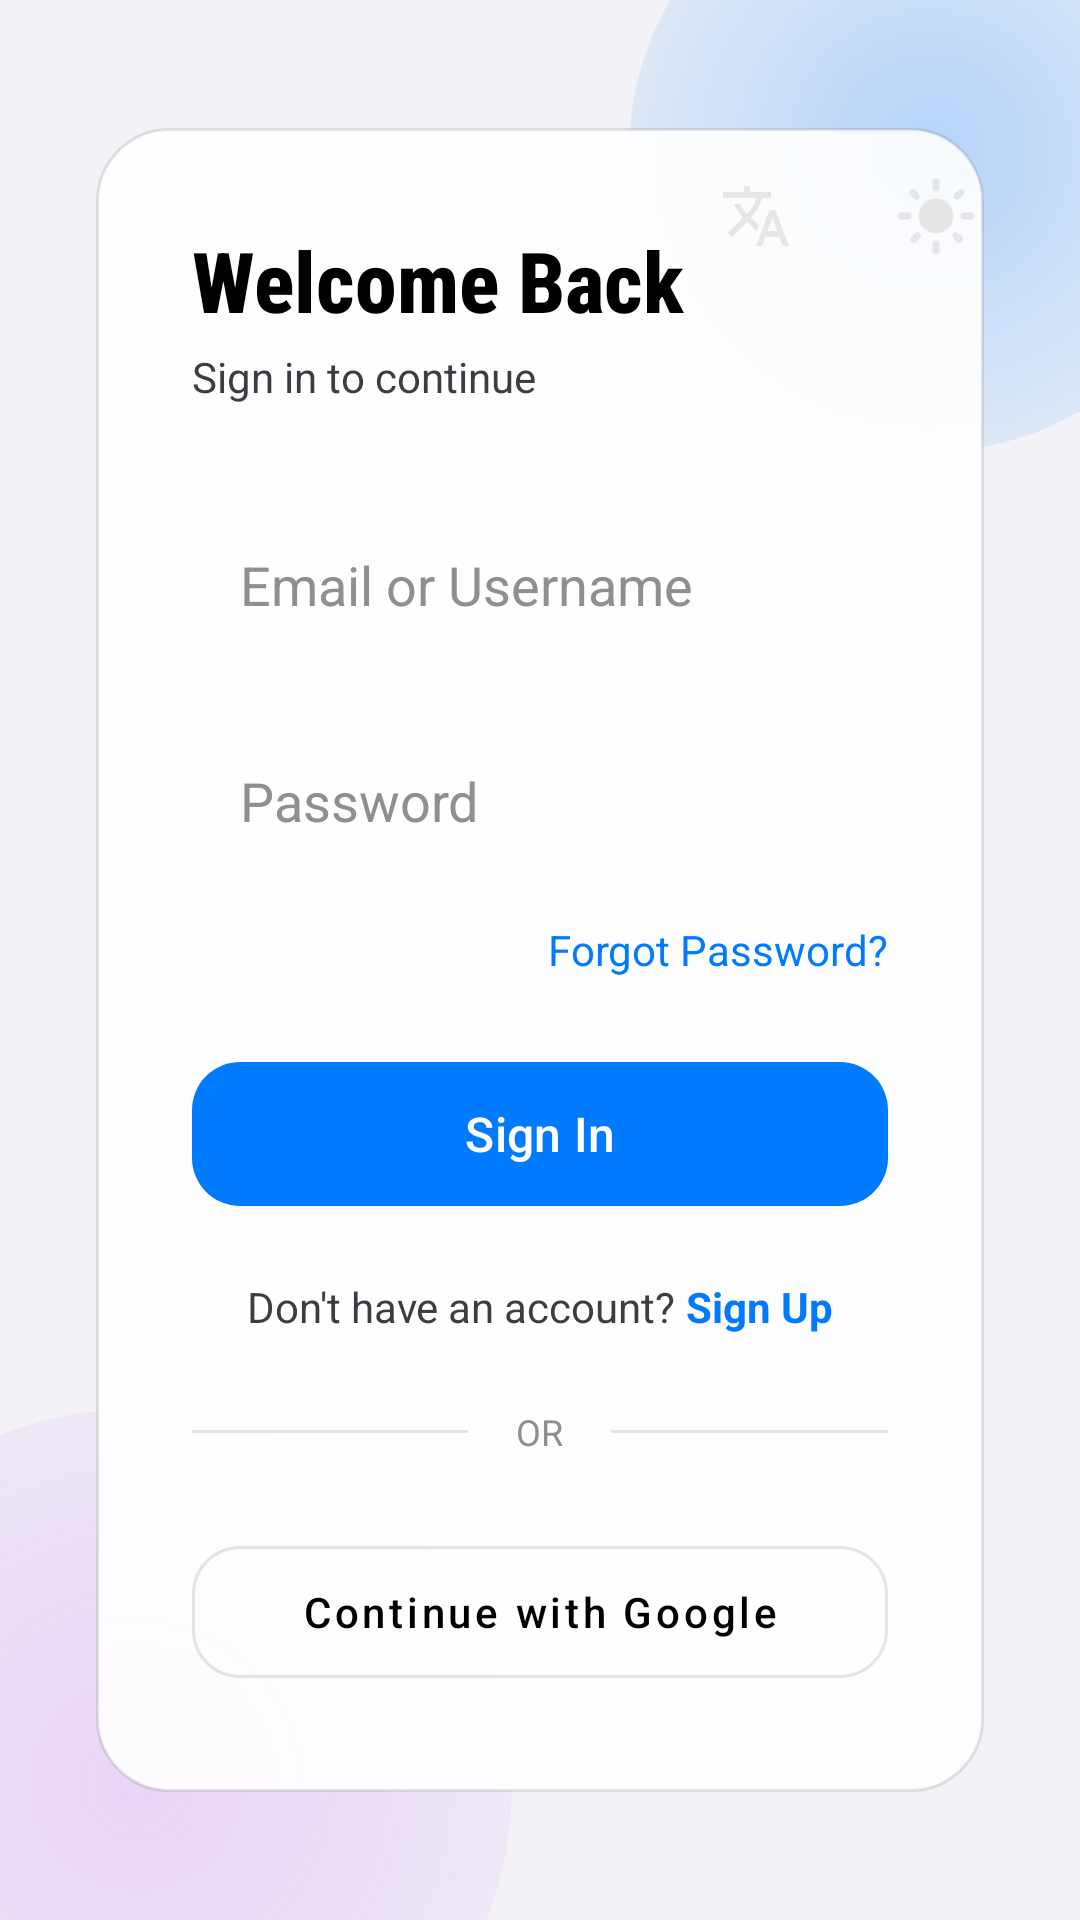

Icons on this 1080w x 1920h Android screen, each with the point to tap as point (x, y):
sun: point (936, 216)
